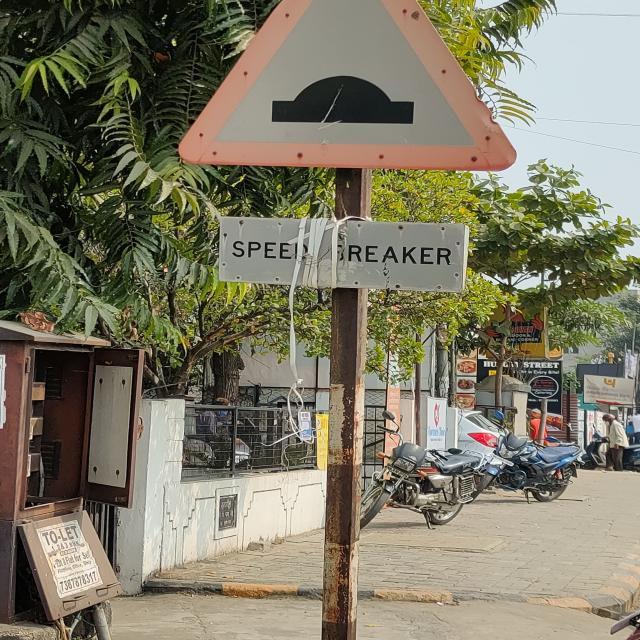BUMPS: (184, 0, 515, 191)
